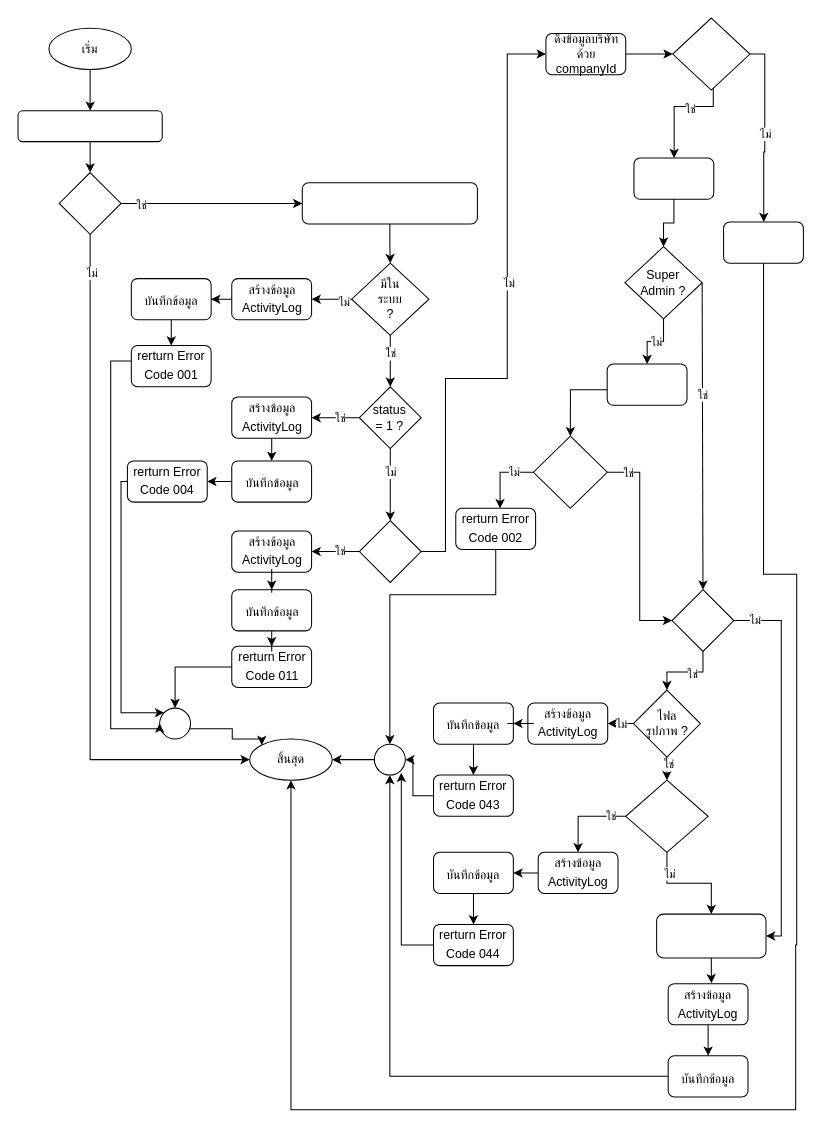
Some shapes in this 823 by 1136 pixel diagram are drawn without their labels. The box of each missing label's shape, as (x1, y1, x2, y2) in pixels:
Company Map > 0: (532, 435, 607, 508)
Locked = 1 ?: (358, 520, 421, 582)
Logo ?: (671, 589, 734, 651)
rerturn Error Code 007: (723, 221, 803, 263)
ขนาดไฟล > 50mb ?: (625, 779, 708, 852)
ตรวจสอบ Account สถานะการใช้งาน: (301, 182, 477, 224)
ตรวจสอบ Company Mapping: (606, 363, 687, 405)
ตรวจสอบ Role ของ Account: (633, 157, 714, 199)
ตรวจสอบสิทธิ์การใช้งาน: (17, 110, 162, 142)
มี ?: (58, 171, 121, 234)
มี?: (672, 17, 750, 90)
แก้ไขข้อมูลบริษัท: (656, 913, 766, 958)
